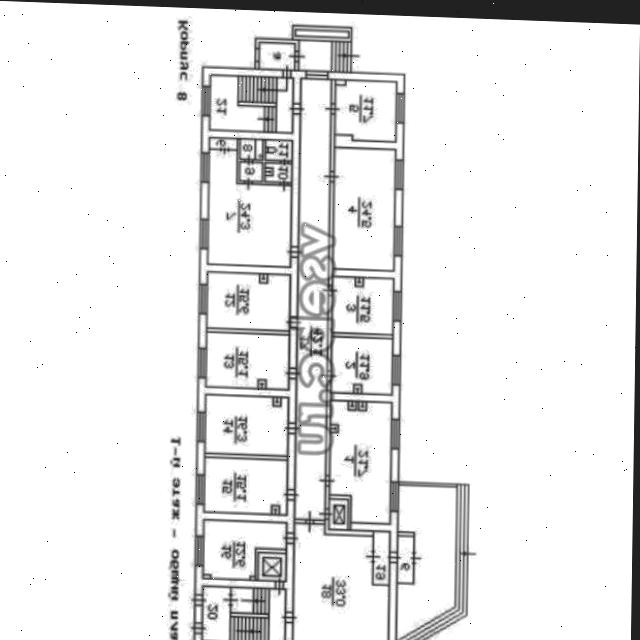room: (296, 78, 331, 518), (293, 523, 388, 640), (208, 149, 291, 265), (396, 484, 456, 640), (329, 400, 391, 523), (333, 147, 395, 269), (202, 519, 287, 581), (203, 394, 288, 455), (205, 271, 291, 329), (202, 456, 288, 514), (205, 331, 289, 389), (209, 75, 293, 131), (202, 586, 285, 640), (334, 79, 397, 141), (330, 336, 393, 393), (330, 276, 394, 332), (299, 40, 351, 70), (259, 42, 295, 68), (373, 531, 389, 583), (257, 551, 285, 580), (398, 532, 413, 582), (329, 498, 347, 529), (265, 139, 292, 159), (265, 162, 292, 181), (240, 139, 263, 158), (240, 161, 263, 180), (209, 137, 236, 148)
